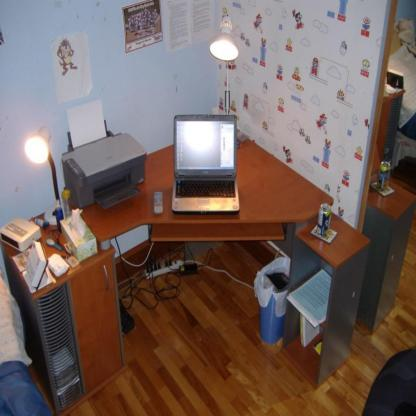board: (170, 104, 237, 218), (316, 201, 331, 237), (379, 160, 391, 192)
